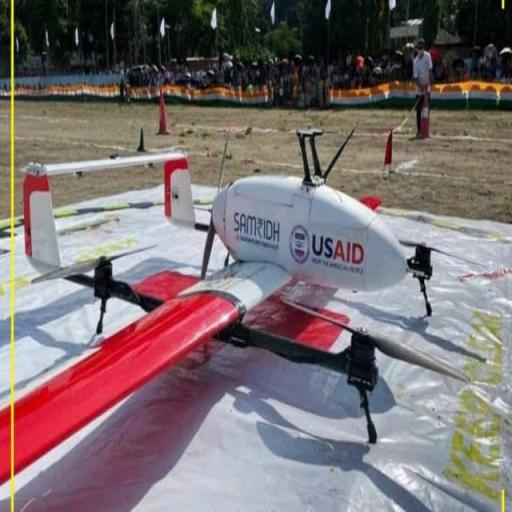uav: (24, 85, 492, 504)
